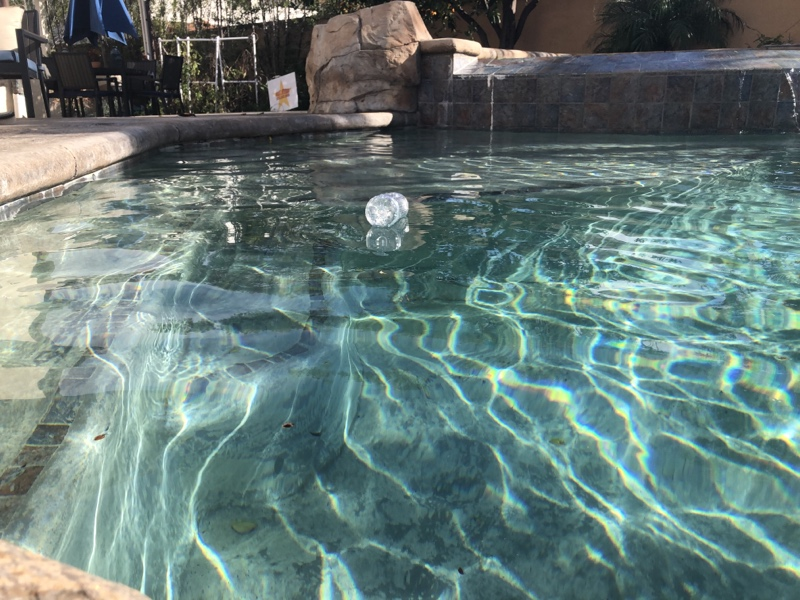Plastic Bottle: (361, 189, 411, 231)
